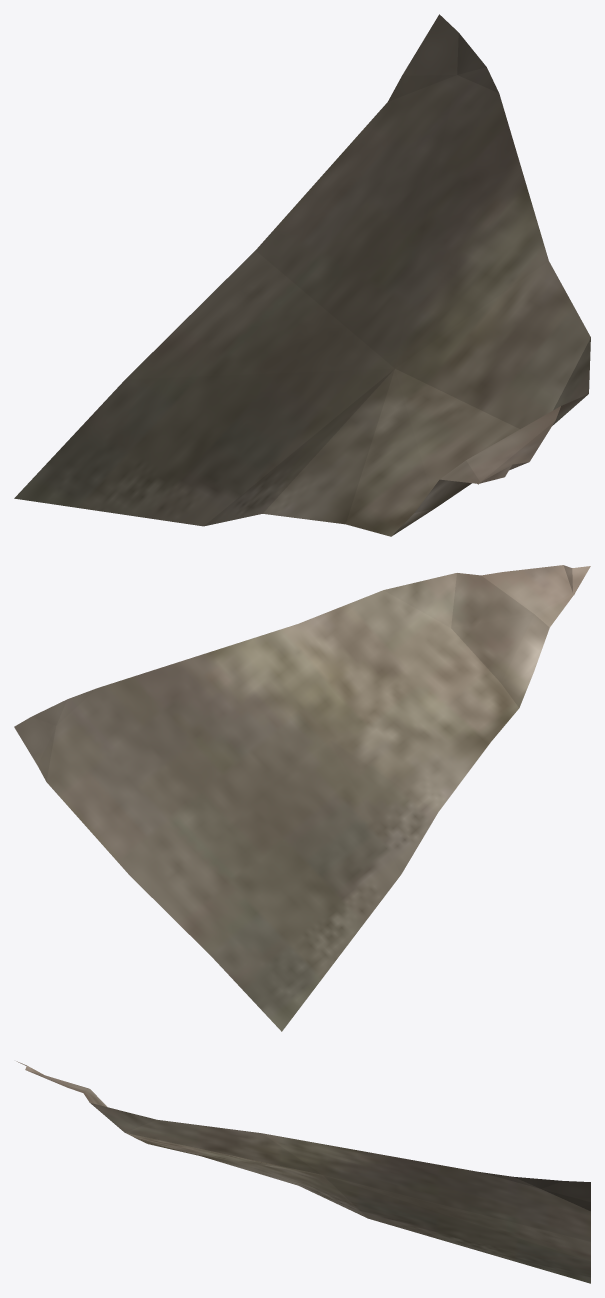
The picture shows the model from 3 angles, top to bottom: view 1: azimuth 30°, elevation 25°; view 2: azimuth 150°, elevation 25°; view 3: azimuth 270°, elevation 25°; orthographic projection. The views are drawn at different scales.
Bounding box in the file's own units: 1.27 × 1.09 × 2.54.
Materials: 1 (1 with a texture image).
